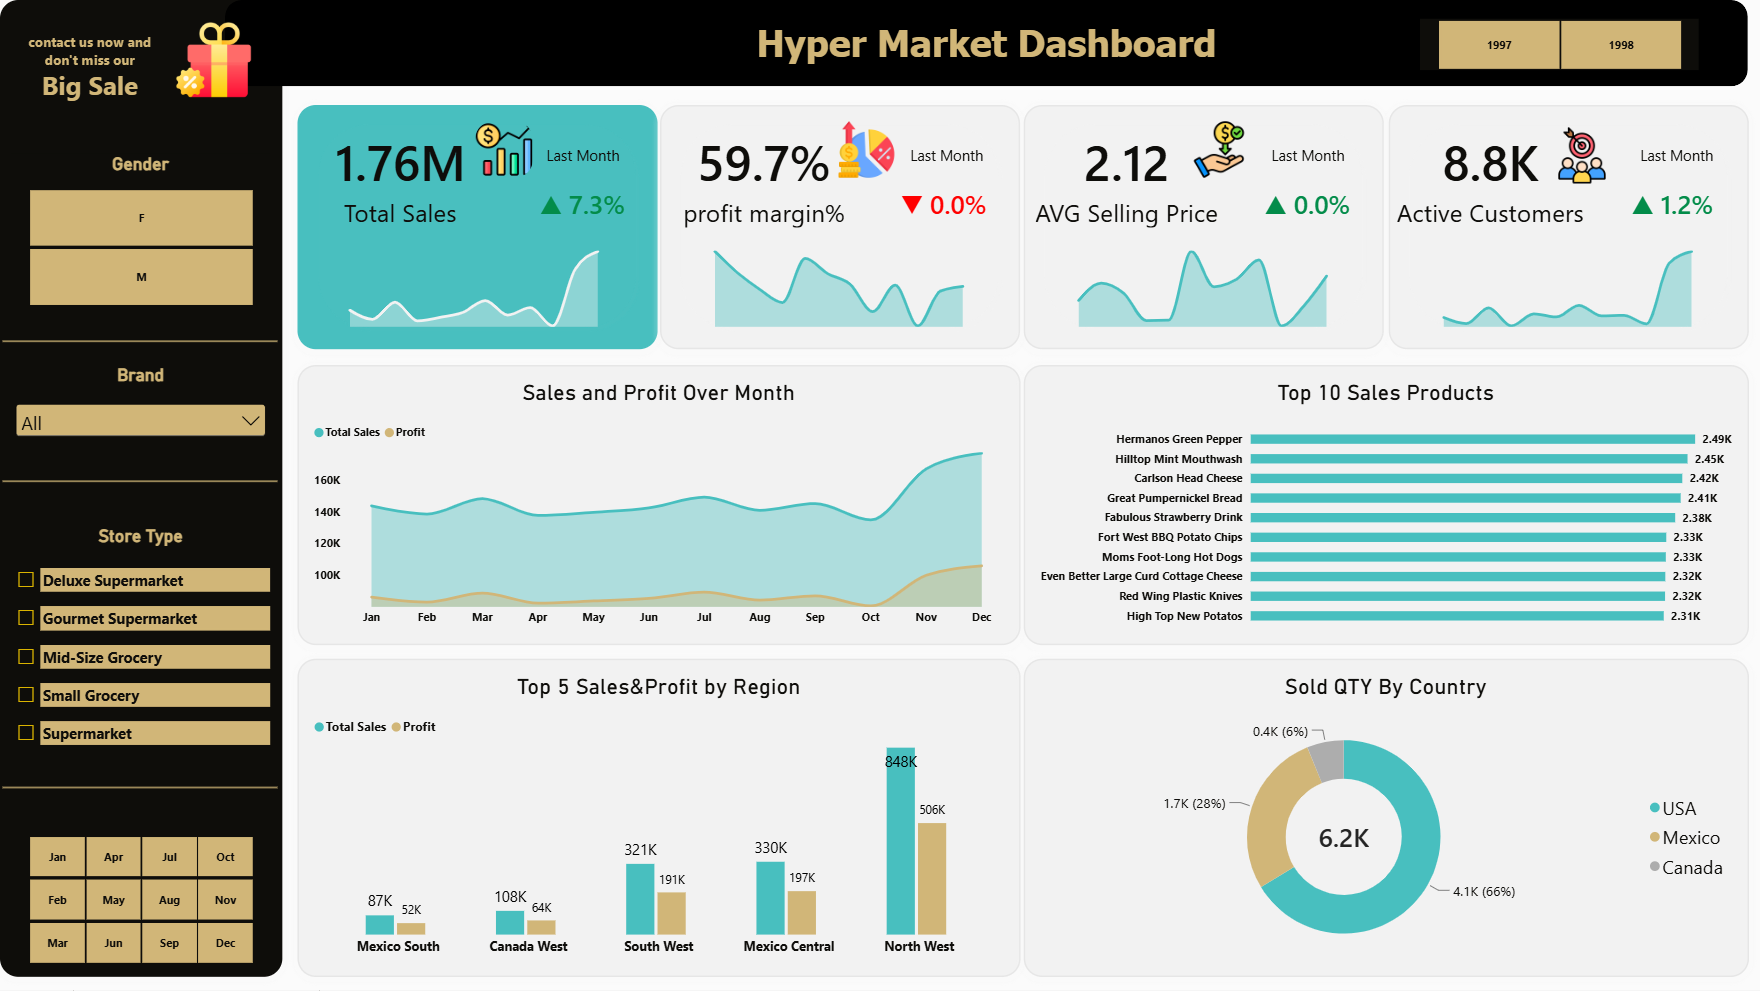

What the dashboard file says about the page in this screenshot:
{"tool":"powerbi","page":{"name":"Page 1","canvas":[1920,1080],"ordinal":0},"visuals":[{"type":"shape","box":[323.9,114,392.7,266],"z":0},{"type":"shape","box":[0,0,307.6,1065.9],"z":1000},{"type":"shape","box":[720.2,114,392.7,266],"z":2000},{"type":"shape","box":[1116.6,114,392.7,266],"z":3000},{"type":"shape","box":[1514.8,114,392.7,266],"z":4000},{"type":"shape","box":[2.9,709.4,300,300],"z":5000},{"type":"shape","box":[2.9,374.6,300,300],"z":6000},{"type":"shape","box":[2.9,222.6,300,300],"z":7000},{"type":"cardVisual","fields":{"Data":["_Measures.Total Sales"]},"box":[282.3,114,309.5,159.3],"z":8000},{"type":"cardVisual","fields":{"Data":["_Measures.profit margin%"]},"box":[678.6,114,309.5,159.3],"z":9000},{"type":"cardVisual","fields":{"Data":["_Measures.AVG Selling Price"]},"box":[1074.9,114,309.5,159.3],"z":10000},{"type":"cardVisual","fields":{"Data":["_Measures.Active Customers"]},"box":[1471.3,114,309.5,159.3],"z":11000},{"type":"areaChart","title":"Sales and Profit Over Month","fields":{"Category":["Calendar.Month Name"],"Y":["_Measures.Total Sales","_Measures.Profit"]},"box":[323.9,398.1,789,305.8],"z":12000},{"type":"areaChart","fields":{"Category":["Calendar.Month Name"],"Y":["_Measures.Total Sales"]},"box":[356.5,251.3,322.1,121.2],"z":13000},{"type":"areaChart","fields":{"Category":["Calendar.Month Name"],"Y":["_Measures.profit margin%"]},"box":[754,251.3,322.1,121.2],"z":14000},{"type":"areaChart","fields":{"Category":["Calendar.Month Name"],"Y":["_Measures.AVG Selling Price"]},"box":[1151.5,251.3,322.1,121.2],"z":15000},{"type":"areaChart","fields":{"Category":["Calendar.Month Name"],"Y":["_Measures.Active Customers"]},"box":[1549.1,251.3,322.1,121.2],"z":16000},{"type":"actionButton","box":[570,143,132.1,52.5],"z":17000},{"type":"actionButton","box":[966.4,143,132.1,52.5],"z":18000},{"type":"actionButton","box":[1360.9,143,132.1,52.5],"z":19000},{"type":"actionButton","box":[1762.6,143,132.1,52.5],"z":20000},{"type":"clusteredColumnChart","title":"Top 5 Sales&Profit by Region","fields":{"Category":["Region.sales_region"],"Y":["_Measures.Total Sales","_Measures.Profit"]},"box":[323.9,718.4,789,347.5],"z":21000},{"type":"clusteredBarChart","title":"Top 10 Sales Products","fields":{"Category":["Products.product_name"],"Y":["_Measures.Total Sales"]},"box":[1116.6,398.1,790.8,305.8],"z":22000},{"type":"donutChart","title":"Sold QTY By Country","fields":{"Category":["Stores.store_country"],"Y":["_Measures.Total sold Quantity"]},"box":[1116.6,718.4,790.8,347.5],"z":23000},{"type":"slicer","title":"Gender","fields":{"Values":["Customers.gender"]},"box":[12.7,168.3,282.3,166.5],"z":24000},{"type":"slicer","title":"Brand","fields":{"Values":["Products.product_brand"]},"box":[12.7,397.5,282.3,114],"z":25000},{"type":"slicer","title":"Store Type","fields":{"Values":["Stores.store_type"]},"box":[12.7,574.3,282.3,269.6],"z":26000},{"type":"slicer","title":"Year","fields":{"Values":["Calendar.Month Name"]},"box":[12.7,910.3,282.3,141.2],"z":27000},{"type":"actionButton","box":[246.1,0,1661.3,94.1],"z":28000},{"type":"image","box":[141.9,16.7,182.8,97.7],"z":29000},{"type":"actionButton","box":[0,6.3,196.2,98.1],"z":30000},{"type":"actionButton","box":[0,43.8,196.2,98.1],"z":31000},{"type":"cardVisual","fields":{"Data":["_Measures.Sales MOM Indicator"]},"box":[551.9,161.1,166.5,123.1],"z":32000},{"type":"slicer","title":"Year","fields":{"Values":["Calendar.date.Variation.Date Hierarchy.Year"]},"box":[1549.1,19.9,304,56.1],"z":33000},{"type":"cardVisual","fields":{"Data":["_Measures.Profit Margin MOM Indicator"]},"box":[946.5,161.1,166.5,123.1],"z":34000},{"type":"cardVisual","fields":{"Data":["_Measures.AVG Selling Price MOM Indicator"]},"box":[1342.8,161.1,166.5,123.1],"z":35000},{"type":"cardVisual","fields":{"Data":["_Measures.ActiveCustomer MOM Indicator"]},"box":[1740.9,161.1,166.5,123.1],"z":36000},{"type":"image","box":[1695.7,132.1,61.5,74.2],"z":37000},{"type":"image","box":[913.9,132.1,63.3,61.5],"z":39000},{"type":"image","box":[1297.5,132.1,63.3,61.5],"z":40000},{"type":"image","box":[517.6,132.1,63.3,61.5],"z":40001}]}

Visuals, with their boxes in screenshot pixels (x1, y1, x2, y2), scaled from the page's 1920x1080 canvas onto the 1760x991 screenshot:
shape: [x1=297, y1=105, x2=657, y2=349]
shape: [x1=0, y1=0, x2=282, y2=978]
shape: [x1=660, y1=105, x2=1020, y2=349]
shape: [x1=1024, y1=105, x2=1384, y2=349]
shape: [x1=1389, y1=105, x2=1749, y2=349]
shape: [x1=3, y1=651, x2=278, y2=926]
shape: [x1=3, y1=344, x2=278, y2=619]
shape: [x1=3, y1=204, x2=278, y2=480]
cardVisual - _Measures.Total Sales: [x1=259, y1=105, x2=542, y2=251]
cardVisual - _Measures.profit margin%: [x1=622, y1=105, x2=906, y2=251]
cardVisual - _Measures.AVG Selling Price: [x1=985, y1=105, x2=1269, y2=251]
cardVisual - _Measures.Active Customers: [x1=1349, y1=105, x2=1632, y2=251]
"Sales and Profit Over Month" areaChart: [x1=297, y1=365, x2=1020, y2=646]
areaChart - Calendar.Month Name x _Measures.Total Sales: [x1=327, y1=231, x2=622, y2=342]
areaChart - Calendar.Month Name x _Measures.profit margin%: [x1=691, y1=231, x2=986, y2=342]
areaChart - Calendar.Month Name x _Measures.AVG Selling Price: [x1=1056, y1=231, x2=1351, y2=342]
areaChart - Calendar.Month Name x _Measures.Active Customers: [x1=1420, y1=231, x2=1715, y2=342]
actionButton: [x1=522, y1=131, x2=644, y2=179]
actionButton: [x1=886, y1=131, x2=1007, y2=179]
actionButton: [x1=1247, y1=131, x2=1369, y2=179]
actionButton: [x1=1616, y1=131, x2=1737, y2=179]
"Top 5 Sales&Profit by Region" clusteredColumnChart: [x1=297, y1=659, x2=1020, y2=978]
"Top 10 Sales Products" clusteredBarChart: [x1=1024, y1=365, x2=1748, y2=646]
"Sold QTY By Country" donutChart: [x1=1024, y1=659, x2=1748, y2=978]
"Gender" slicer: [x1=12, y1=154, x2=270, y2=307]
"Brand" slicer: [x1=12, y1=365, x2=270, y2=469]
"Store Type" slicer: [x1=12, y1=527, x2=270, y2=774]
"Year" slicer: [x1=12, y1=835, x2=270, y2=965]
actionButton: [x1=226, y1=0, x2=1748, y2=86]
image: [x1=130, y1=15, x2=298, y2=105]
actionButton: [x1=0, y1=6, x2=180, y2=96]
actionButton: [x1=0, y1=40, x2=180, y2=130]
cardVisual - _Measures.Sales MOM Indicator: [x1=506, y1=148, x2=659, y2=261]
"Year" slicer: [x1=1420, y1=18, x2=1699, y2=70]
cardVisual - _Measures.Profit Margin MOM Indicator: [x1=868, y1=148, x2=1020, y2=261]
cardVisual - _Measures.AVG Selling Price MOM Indicator: [x1=1231, y1=148, x2=1384, y2=261]
cardVisual - _Measures.ActiveCustomer MOM Indicator: [x1=1596, y1=148, x2=1748, y2=261]
image: [x1=1554, y1=121, x2=1611, y2=189]
image: [x1=838, y1=121, x2=896, y2=178]
image: [x1=1189, y1=121, x2=1247, y2=178]
image: [x1=474, y1=121, x2=532, y2=178]
